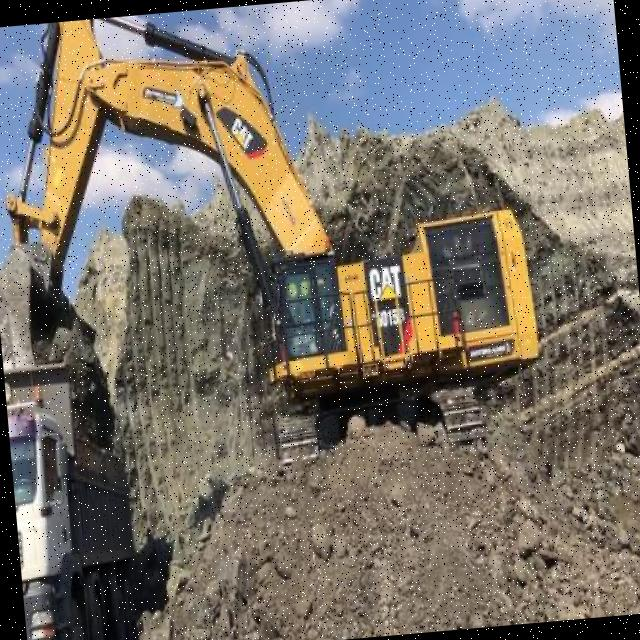Dump Truck: (2, 347, 149, 640)
Excavator: (0, 0, 545, 489)
